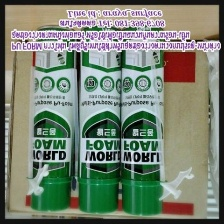aerosol_cans: (73, 22, 126, 219), (26, 22, 79, 216), (116, 22, 168, 219)
